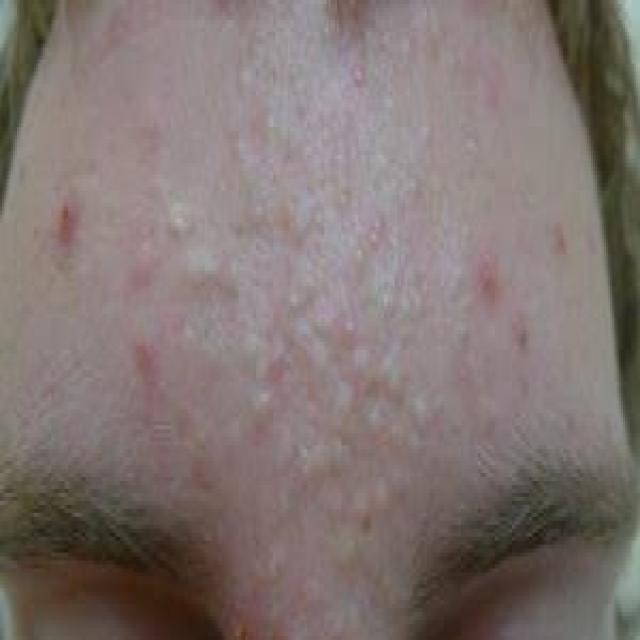Acne: (53, 186, 83, 246), (474, 242, 501, 303), (166, 194, 195, 244), (366, 205, 386, 257), (266, 338, 287, 383), (552, 216, 570, 260), (348, 56, 368, 95)
